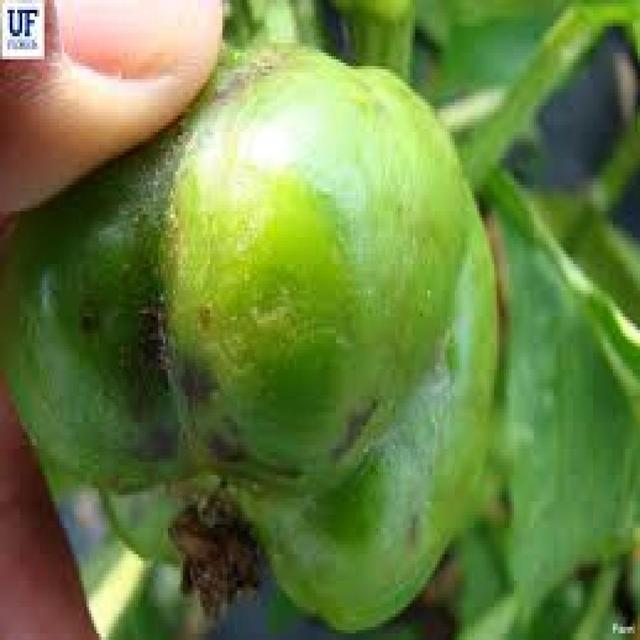Spotted wilt Virus Fruit: (11, 63, 19, 228)
